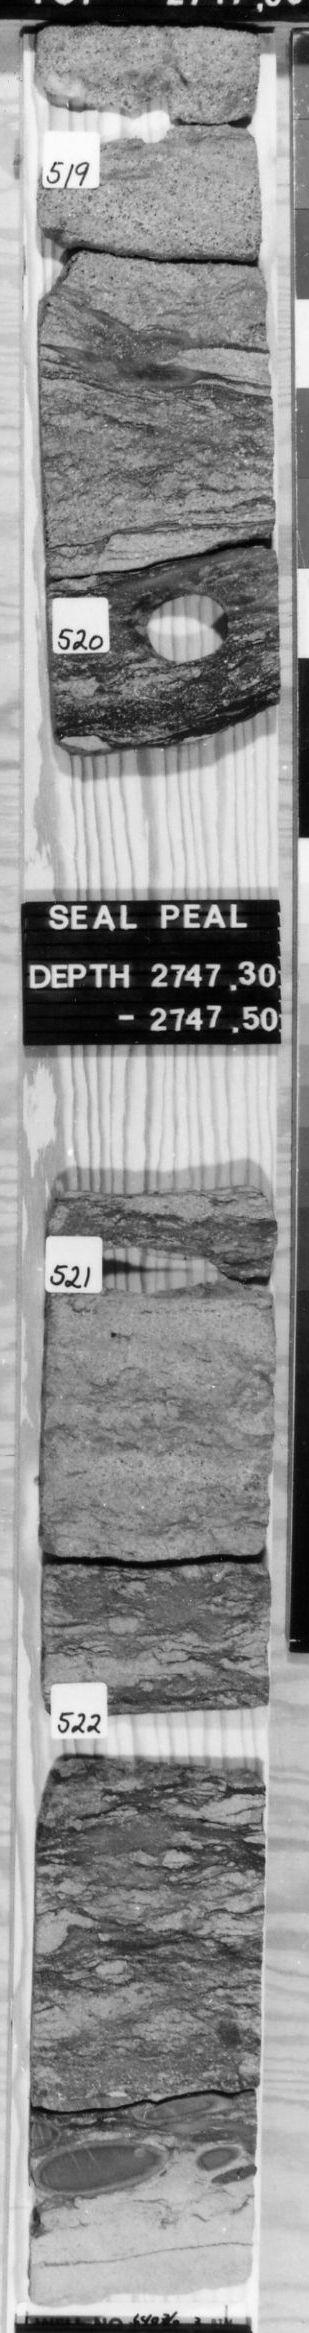hplug: (59, 1698, 256, 1782), (48, 82, 190, 161), (88, 1239, 238, 1306), (125, 580, 235, 668)
